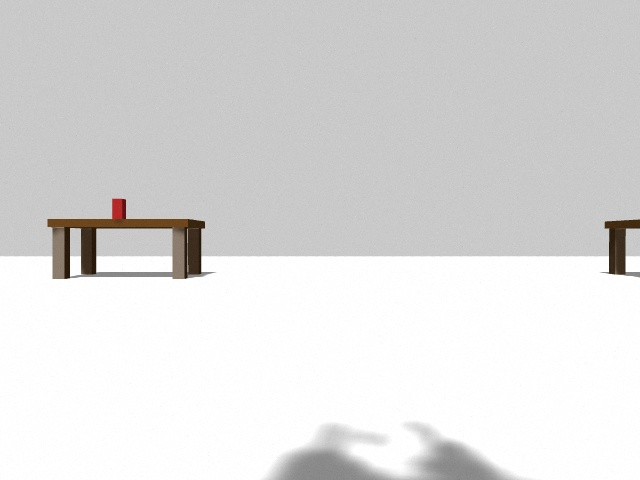red_cube: (112, 199, 123, 219)
